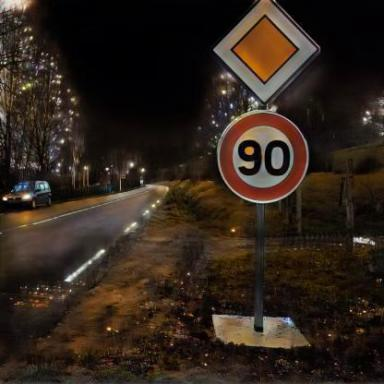Speed_limit_90: (223, 114, 304, 200)
